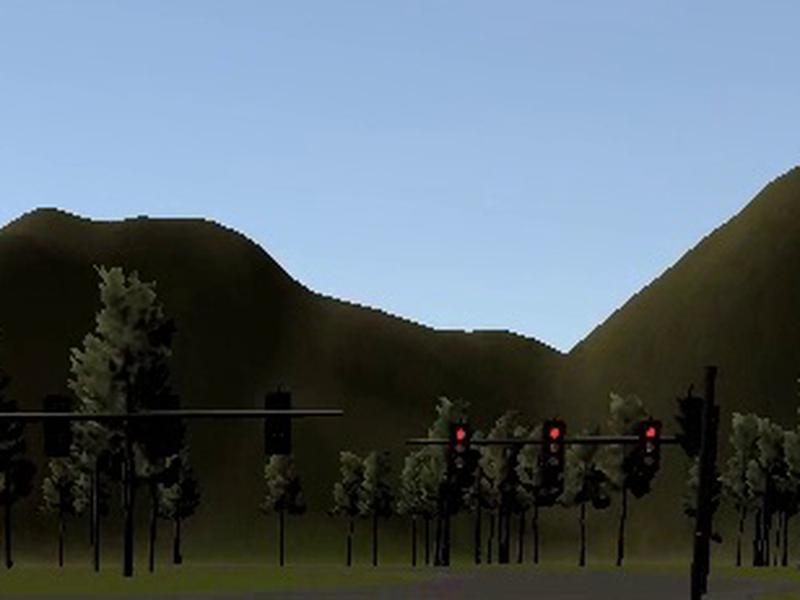Red: (446, 422, 470, 473), (637, 421, 661, 472), (542, 421, 564, 472)
